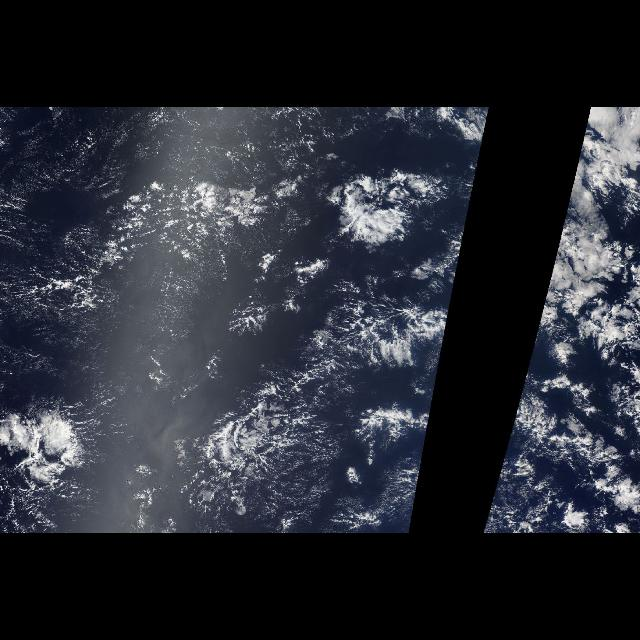Fish: (130, 280, 456, 510)
